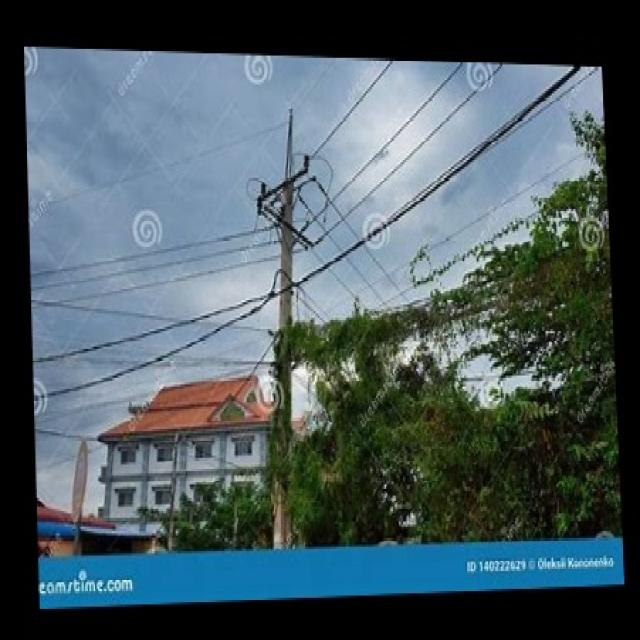critical vegetation: (279, 268, 616, 399)
